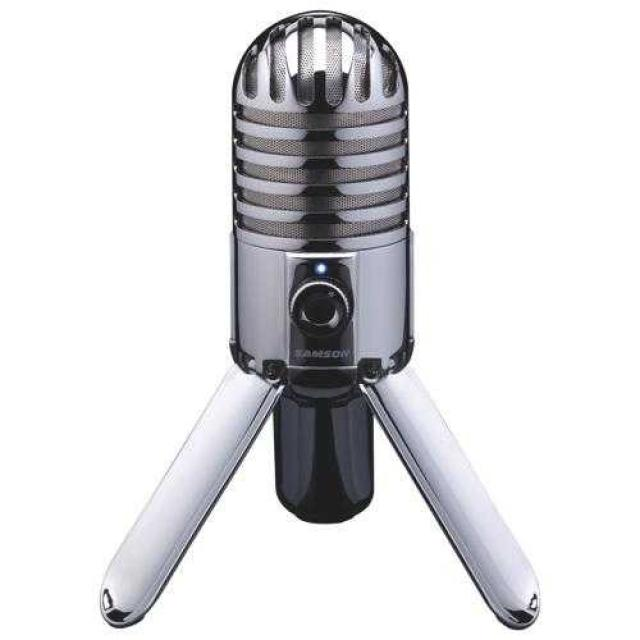microphone: (235, 18, 402, 514)
